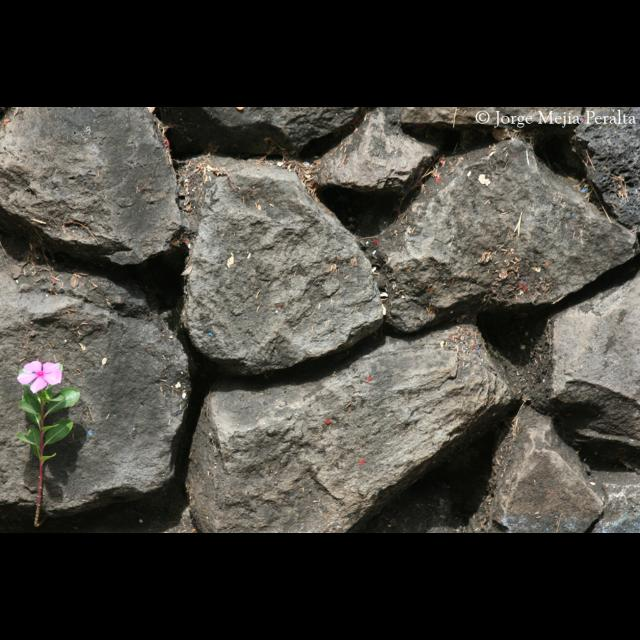Flower: (12, 363, 60, 405)
